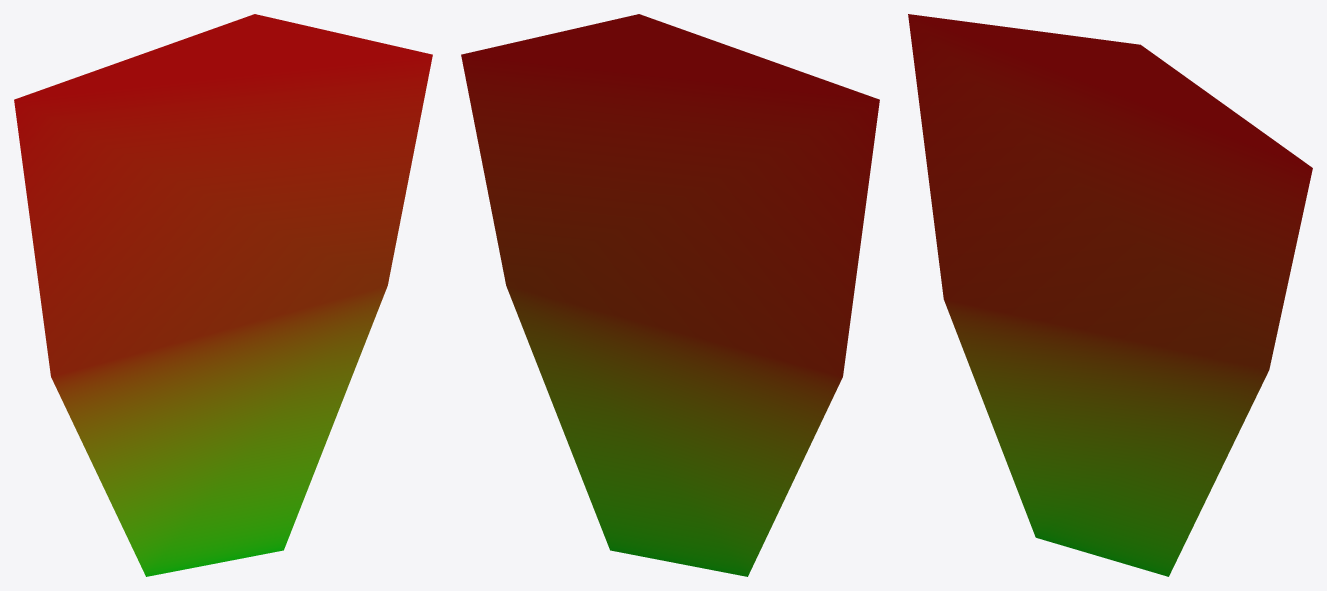
File: Var4_LOD3.fbx
The picture shows the model from 3 angles, left to right: view 1: azimuth 30°, elevation 25°; view 2: azimuth 150°, elevation 25°; view 3: azimuth 330°, elevation 25°; orthographic projection. The views are drawn at different scales.
Visible parts, largest first — view 1: _6c58_Var4_LOD3; view 2: _6c58_Var4_LOD3; view 3: _6c58_Var4_LOD3.
Part boxes in pixels (x1,y1,x2,y2): _6c58_Var4_LOD3: [14, 14, 432, 576]; _6c58_Var4_LOD3: [461, 14, 879, 576]; _6c58_Var4_LOD3: [908, 14, 1312, 576].
Size of the model in its own units: 27.35 by 33.91 by 5.96e-07.
